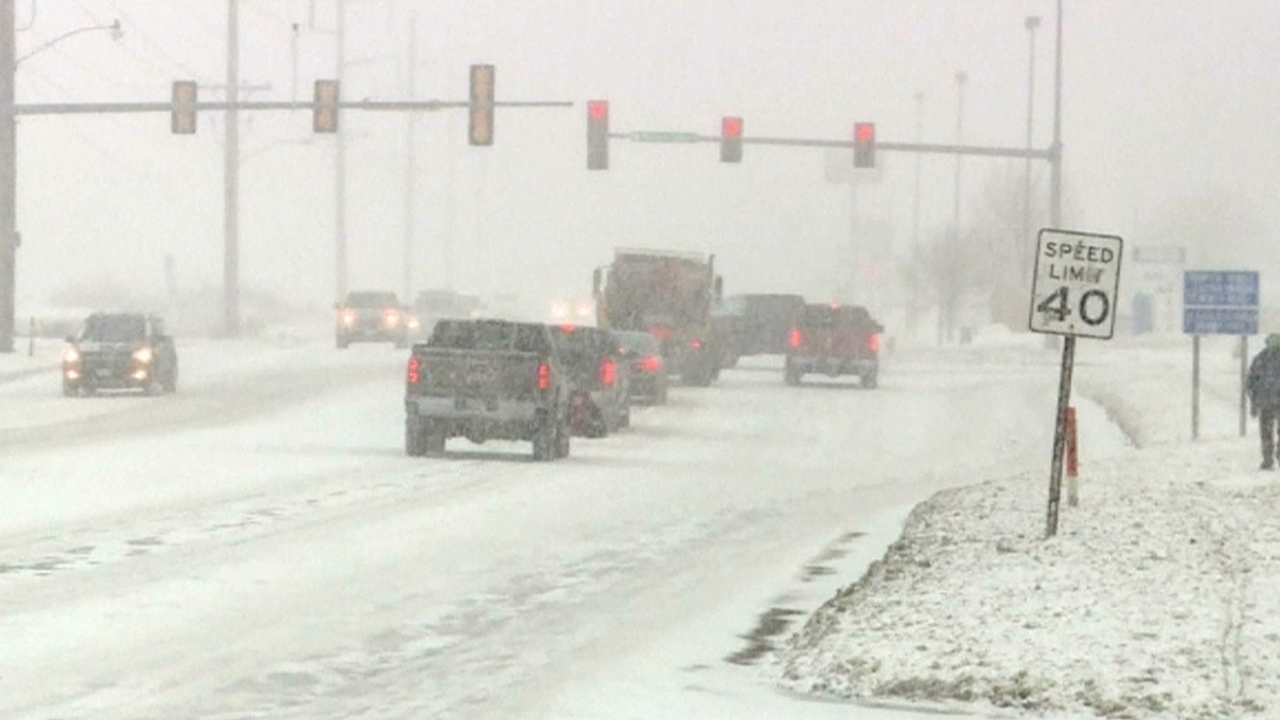car: (410, 319, 561, 454), (62, 313, 176, 396), (547, 321, 625, 434), (788, 301, 879, 386), (719, 292, 795, 362), (333, 289, 411, 348), (617, 332, 666, 406), (404, 289, 467, 329)
person: (1245, 324, 1279, 469)
truck: (598, 251, 726, 386)
